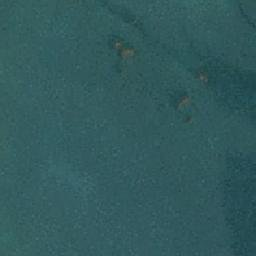debris: (111, 37, 136, 63)
